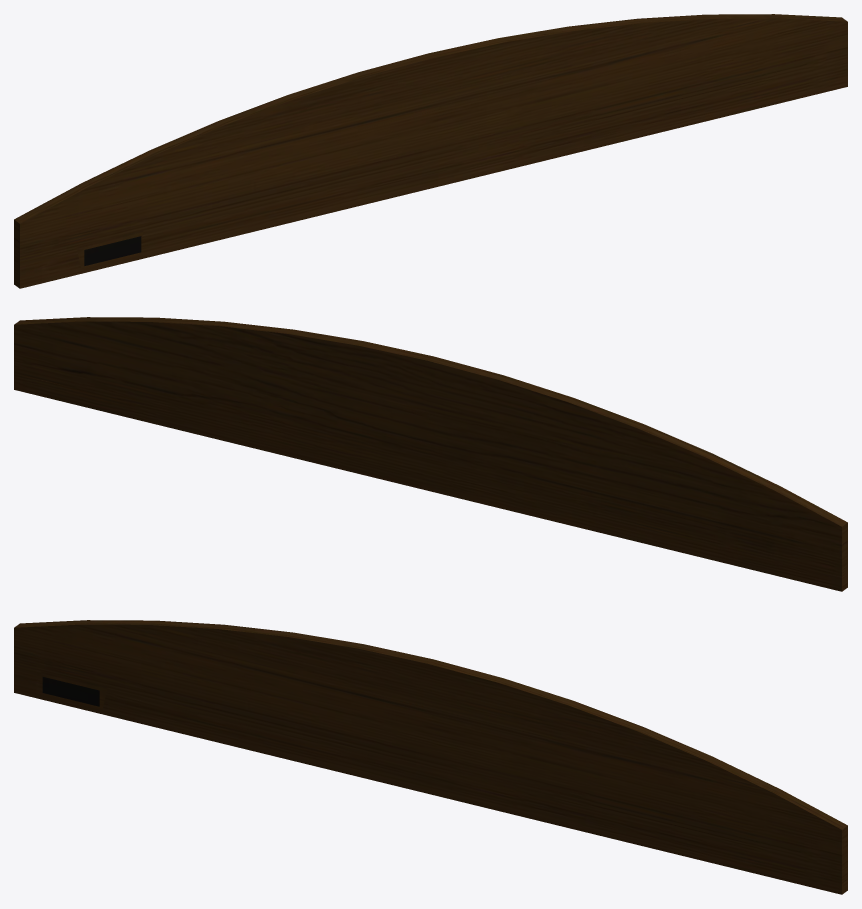
Rendered from link_8__other_leaf-147.glb.
3 views of the same model, one above another, from view 1: azimuth 30°, elevation 25°; view 2: azimuth 150°, elevation 25°; view 3: azimuth 330°, elevation 25° (orthographic).
Parts seen in each view (by area): view 1: geometry_0; view 2: geometry_0; view 3: geometry_0.
Boxes of the visible parts, x1,y1,x2,y2 form: geometry_0: (14,14,847,288); geometry_0: (14,317,847,591); geometry_0: (14,620,847,894).
Size of the model in its own units: 1.68 by 0.2521 by 0.084.
1 material, 1 textured.
